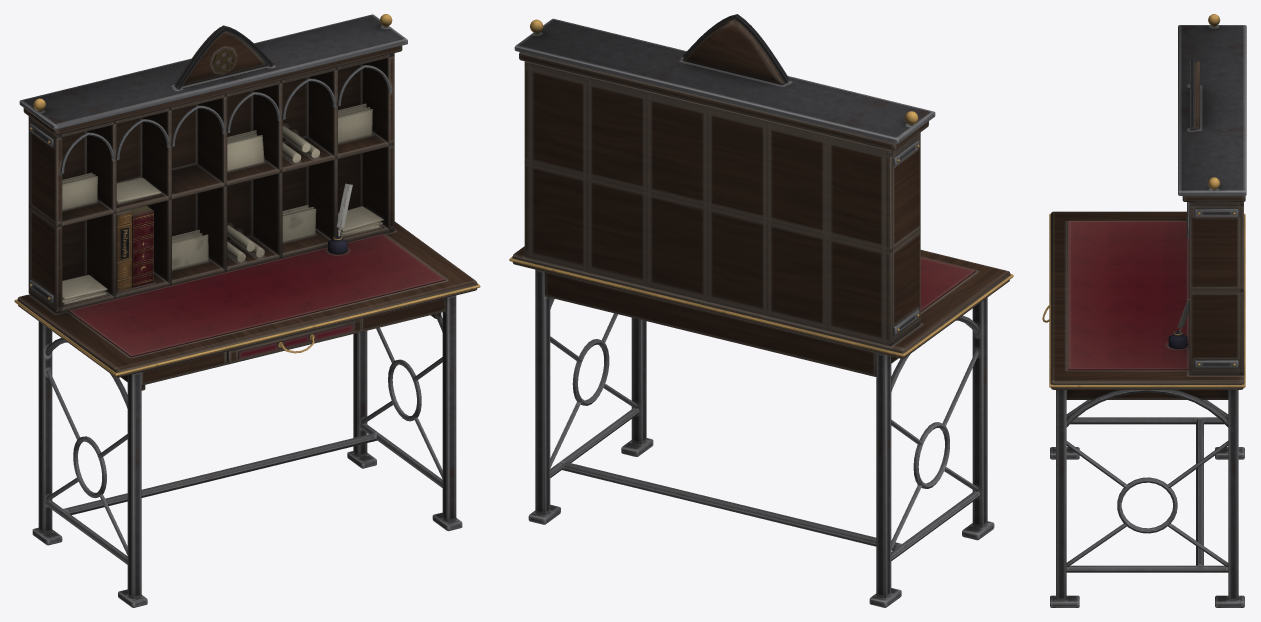
Rendered from DormDesk.fbx.
The picture shows the model from 3 angles, left to right: view 1: azimuth 30°, elevation 25°; view 2: azimuth 150°, elevation 25°; view 3: azimuth 270°, elevation 25°; orthographic projection. The views are drawn at different scales.
Parts seen in each view (by area): view 1: DormDesk; view 2: DormDesk; view 3: DormDesk.
Part boxes in pixels (x1=…): DormDesk: x1=14, y1=14, x2=480, y2=607; DormDesk: x1=509, y1=14, x2=1013, y2=607; DormDesk: x1=1042, y1=14, x2=1246, y2=607.
Bounding box in the file's own units: 464 × 593 × 233.
